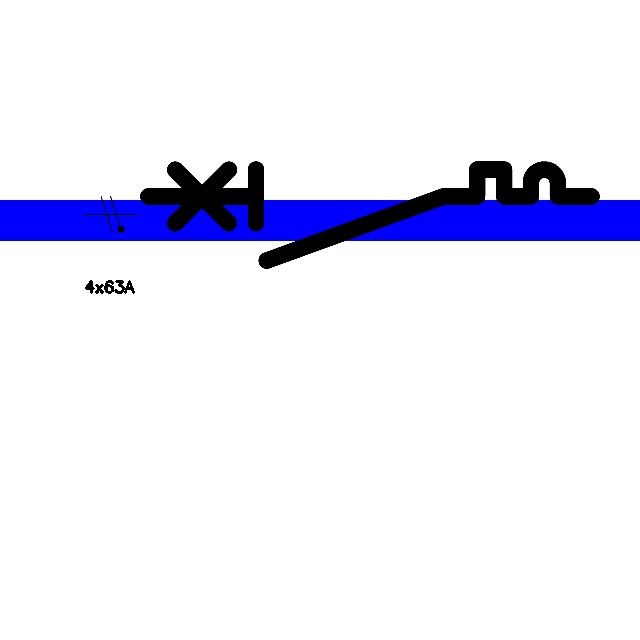interruptor_termomagnetico: (136, 158, 602, 272)
